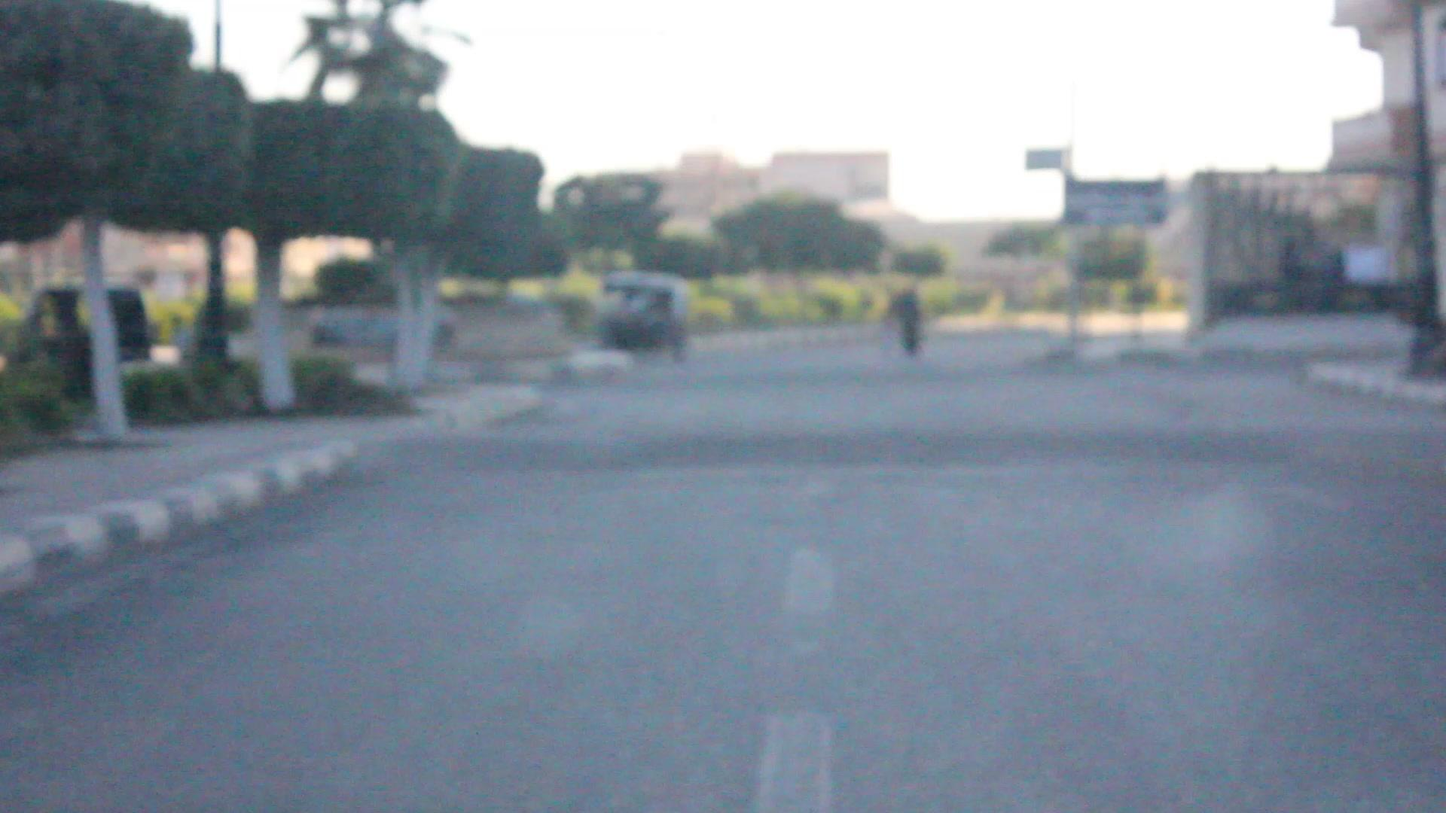Bump: (458, 429, 1446, 478)
